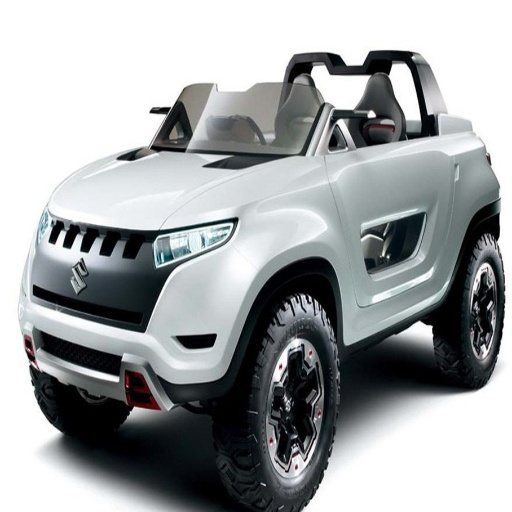front_bumper: (19, 208, 260, 405), (396, 228, 456, 311)
front_glass: (151, 64, 325, 167)
front_left_door: (324, 106, 403, 325)
trunk: (402, 152, 480, 256)
